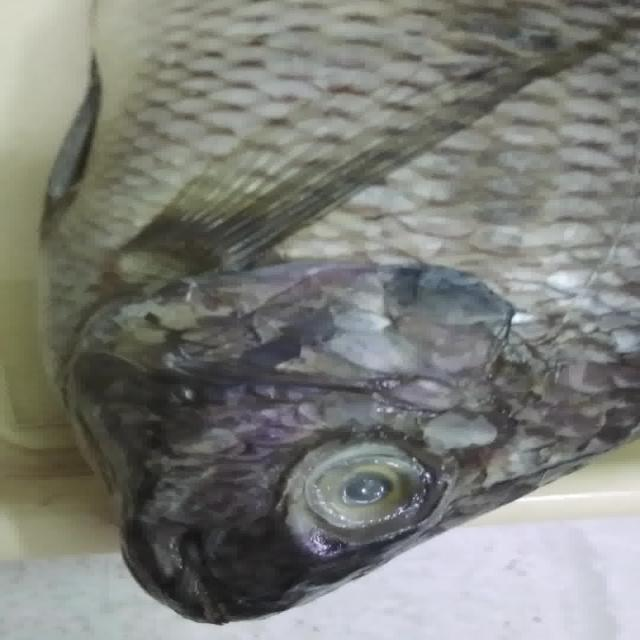Non-Fresh: (268, 429, 441, 538)
